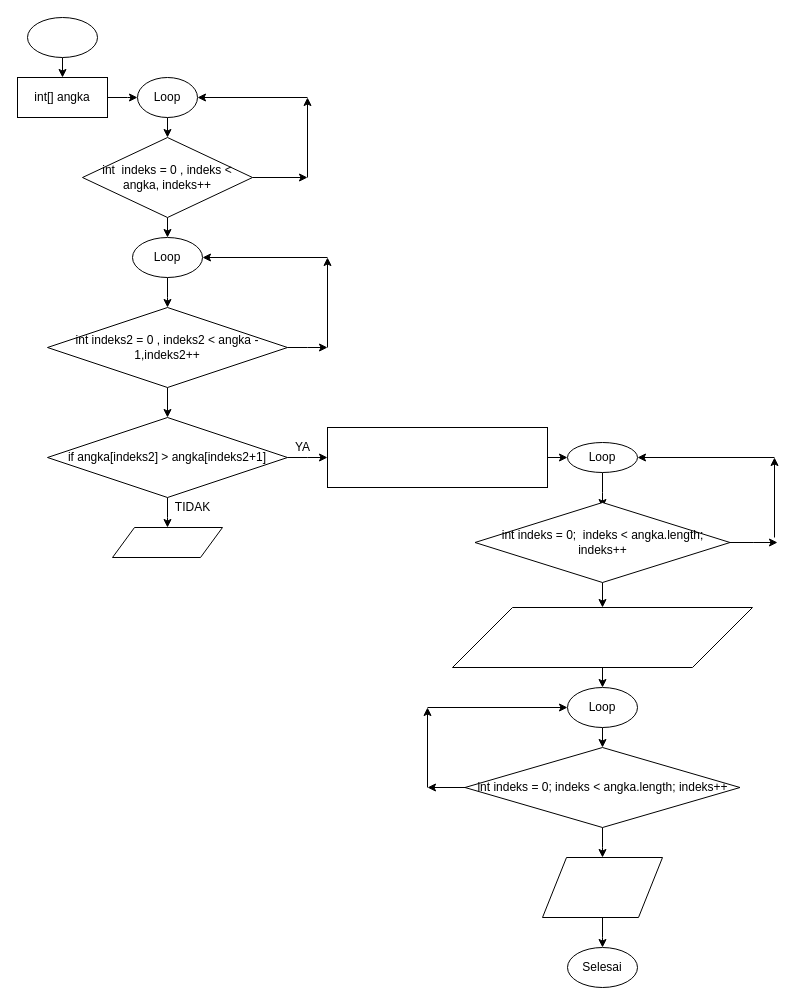
The diagram is 803 pixels wide and 1005 high, and some of its shapes have lost their labels. Here are the shapes that lost their labels. From the top down, the centre of each, then its label:
At point 62,37: "Mulai".
At point 437,457: "int angka[] = (82,12,41,38,19,26,9,48,20,55,8,32,3)".
At point 167,542: "Print".
At point 602,637: "Print Mengurutkan nilai dari yang terkecil".
At point 602,887: "Print angka".
